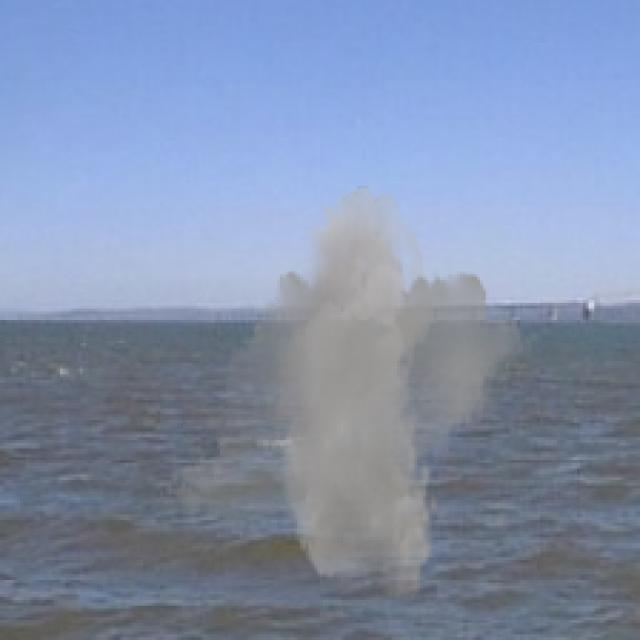Smoke: (162, 185, 534, 600)
